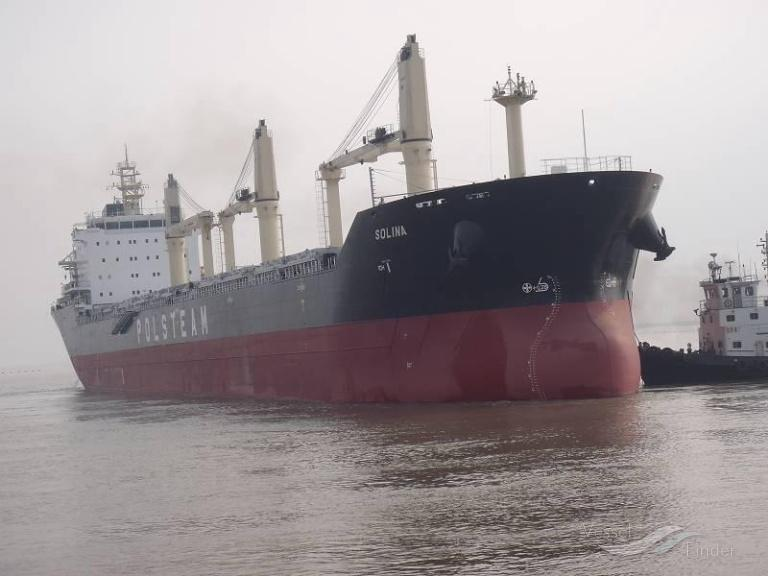OCR: (134, 304, 218, 342), (363, 220, 412, 242)
